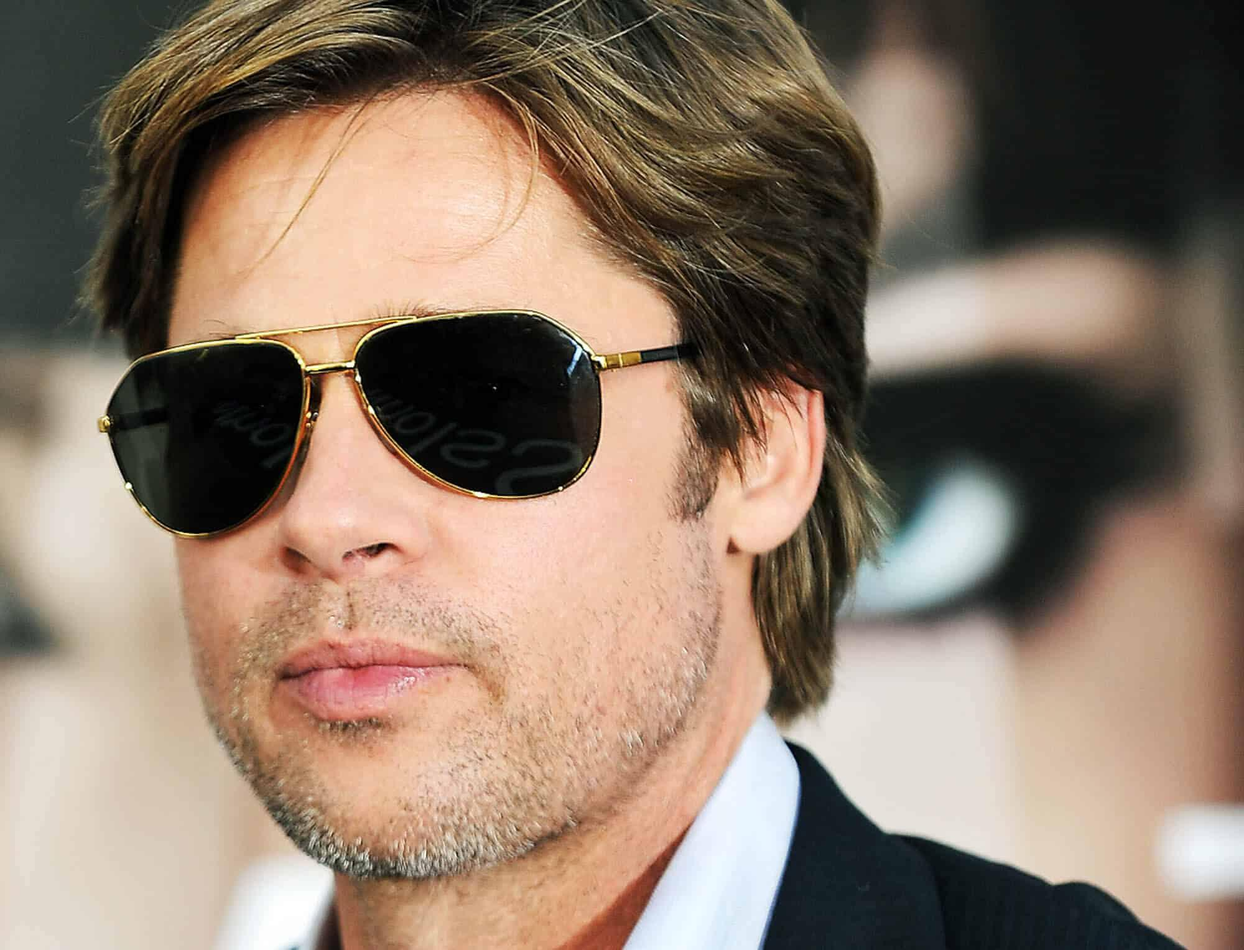sunglasses: (90, 286, 672, 563)
